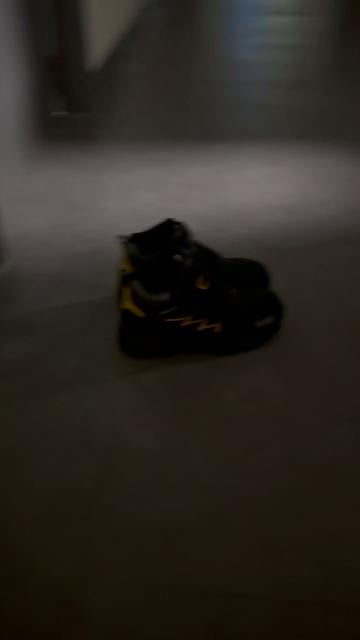shoe_worn: (115, 261, 288, 366), (114, 216, 274, 285)
